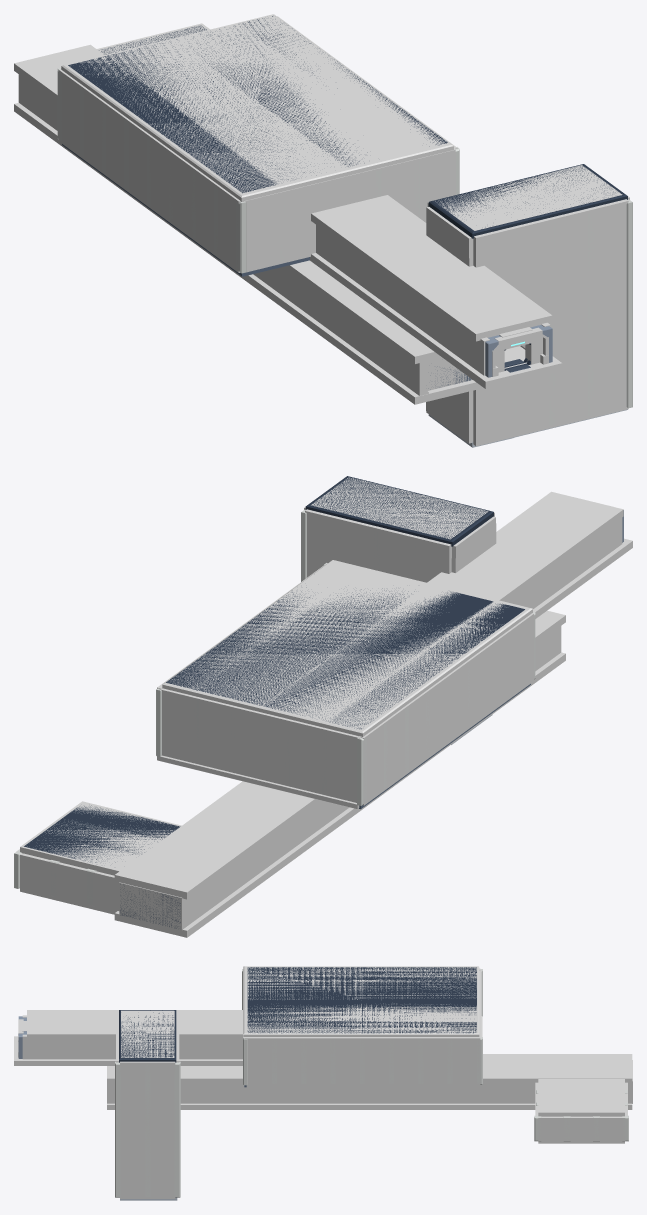
File: inside-spaceship.glb
3 views of the same model, one above another, from view 1: azimuth 30°, elevation 25°; view 2: azimuth 150°, elevation 25°; view 3: azimuth 270°, elevation 25° (orthographic). The views are drawn at different scales.
Visible parts, largest first — view 1: COL-LAB-ROOF, COL-STAIRCASE-SIDE.001, COL-FIRST-FLOOR-GROUND.002, Cube.146, COL-LAB-WALL.002, COL-STAIRCASE-FLOOR.001, COL-FIRST-FLOOR-WALL-1, COL-FIRST-FLOOR-ROOF, COL-LAB-WALL.005, COL-FIRST-FLOOR-WALL-1.015, COL-FIRST-FLOOR-GROUND, COL-FIRST-FLOOR-GROUND.001 (+9 smaller); view 2: COL-LAB-ROOF, Cube.146, COL-LAB-WALL.001, COL-LAB-WALL.002, COL-FIRST-FLOOR-ROOF, COL-FIRST-FLOOR-GROUND.002, COL-STAIRCASE-SIDE.002, Cube.137, COL-STAIRCASE-FLOOR.001, COL-FIRST-FLOOR-WALL-1, Room1-roof, COL-ROOM-ROOF (+7 smaller); view 3: Cube.146, COL-LAB-ROOF, COL-LAB-WALL.003, COL-STAIRCASE-SIDE.003, COL-FIRST-FLOOR-WALL-1.002, COL-FIRST-FLOOR-ROOF, COL-FIRST-FLOOR-GROUND.002, COL-ROOM-ROOF, COL-FIRST-FLOOR-GROUND, COL-STAIRCASE-FLOOR.001, COL-ROOM-WALL.003, Cube.137 (+4 smaller).
Boxes of the visible parts, x1,y1,x2,y2 form: COL-LAB-ROOF: (61,14,453,201); COL-STAIRCASE-SIDE.001: (473,199,628,446); COL-FIRST-FLOOR-GROUND.002: (311,195,552,341); Cube.146: (68,16,447,193); COL-LAB-WALL.002: (58,69,240,272); COL-STAIRCASE-FLOOR.001: (435,165,622,230); COL-FIRST-FLOOR-WALL-1: (19,75,425,395); COL-FIRST-FLOOR-ROOF: (14,44,441,363); COL-LAB-WALL.005: (243,183,316,272); COL-FIRST-FLOOR-WALL-1.015: (316,225,489,375); COL-FIRST-FLOOR-GROUND: (14,103,483,404); COL-FIRST-FLOOR-GROUND.001: (310,253,562,388); COL-LAB-ROOF: (162,560,532,736); Cube.146: (166,587,524,729); COL-LAB-WALL.001: (159,688,360,802); COL-LAB-WALL.002: (358,613,534,805); COL-FIRST-FLOOR-ROOF: (114,610,565,899); COL-FIRST-FLOOR-GROUND.002: (427,491,623,601); COL-STAIRCASE-SIDE.002: (305,509,451,582); Cube.137: (305,476,493,546); COL-STAIRCASE-FLOOR.001: (311,477,488,539); COL-FIRST-FLOOR-WALL-1: (182,626,561,929); Room1-roof: (24,805,180,862); COL-ROOM-ROOF: (20,801,181,875); Cube.146: (247,967,476,1033); COL-LAB-ROOF: (243,966,479,1036); COL-LAB-WALL.003: (244,1036,480,1085); COL-STAIRCASE-SIDE.003: (120,1061,175,1198); COL-FIRST-FLOOR-WALL-1.002: (180,1083,535,1103); COL-FIRST-FLOOR-ROOF: (107,1054,632,1083); COL-FIRST-FLOOR-GROUND.002: (27,1010,242,1039); COL-ROOM-ROOF: (538,1079,624,1116); COL-FIRST-FLOOR-GROUND: (107,1103,632,1109); COL-STAIRCASE-FLOOR.001: (121,1010,174,1057); COL-ROOM-WALL.003: (538,1116,625,1140); Cube.137: (119,1010,176,1062).
Size of the model in its own units: 46 by 32 by 127.
